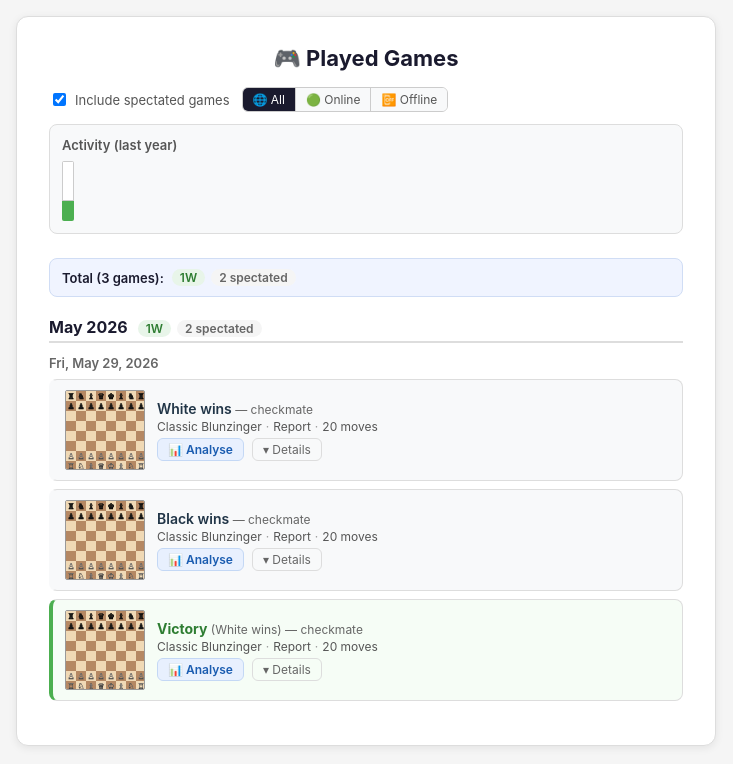
PlayedGamesSection › spectated games filter › hides spectated games when checkbox is unchecked
Expected: the text "Total (3 games):" is shown, [62,270,164,286]
Uncheck the filter
Click the checkbox labelled "Include spectated games" at (60, 100), box [53,93,66,106]
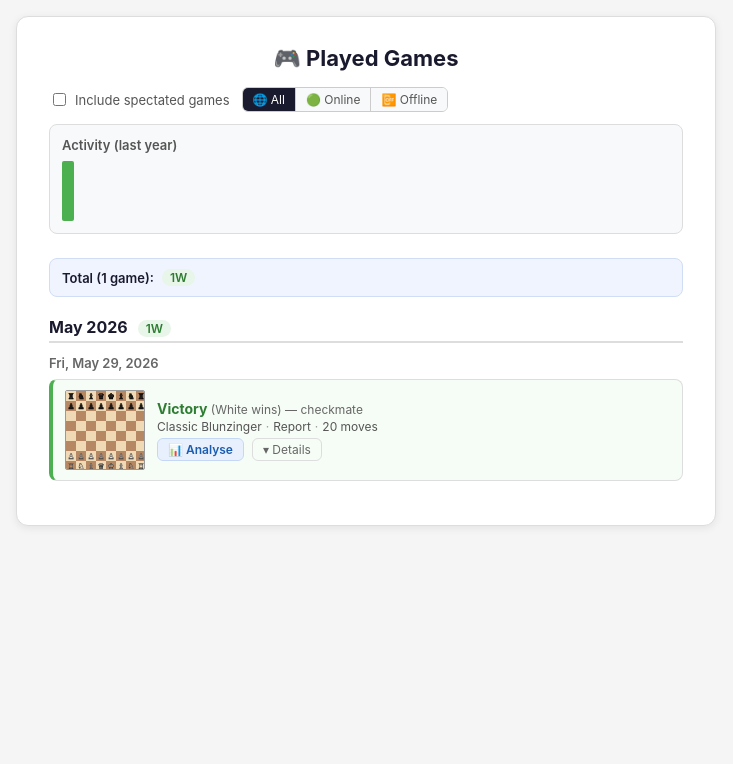
Result: the text "Total (1 game):" is shown at [62,270,154,286]
